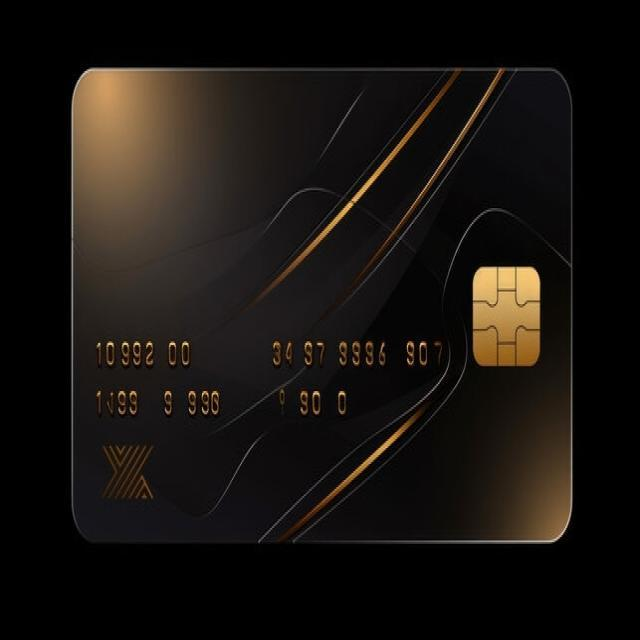payment_card: (69, 65, 574, 545)
